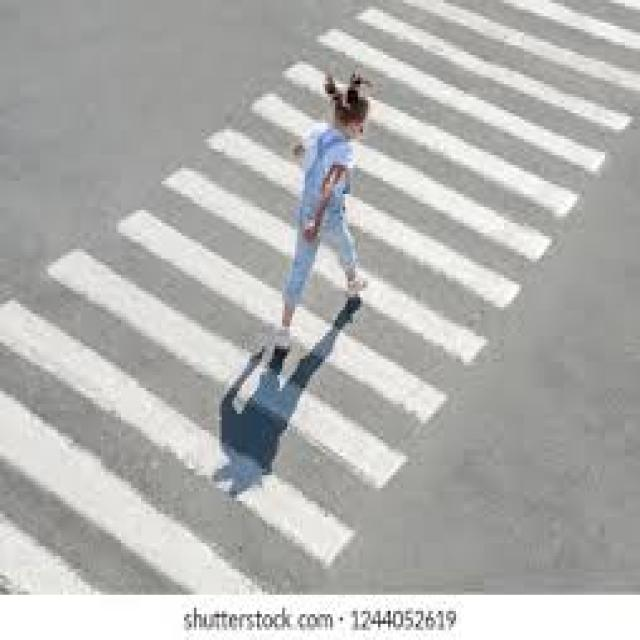Pedestrians: (267, 65, 391, 365)
